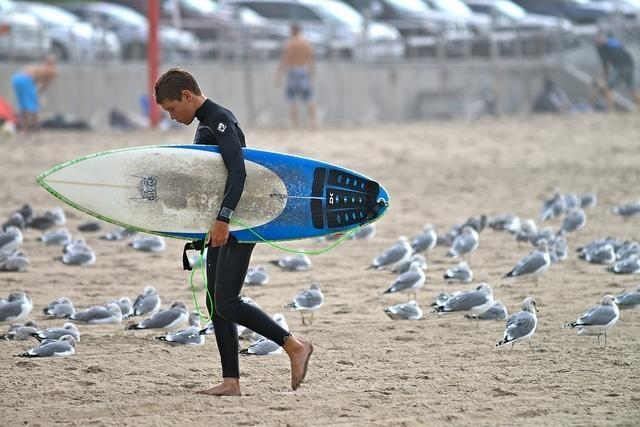car: (230, 1, 404, 59), (0, 1, 124, 64), (58, 1, 181, 64), (160, 0, 284, 60), (352, 1, 448, 57), (416, 0, 495, 58), (462, 0, 574, 32), (2, 1, 52, 60), (563, 3, 639, 26)
